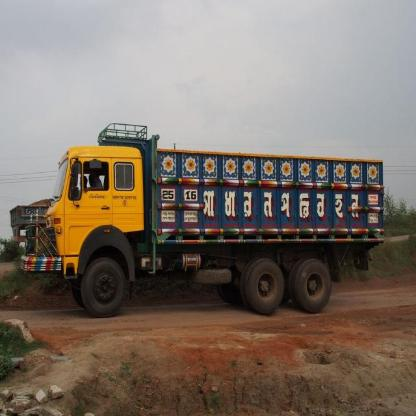truck: (16, 119, 388, 324)
